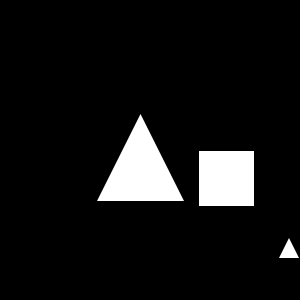circle: (199, 151, 254, 206)
triangle: (97, 114, 184, 201), (279, 238, 299, 258)
